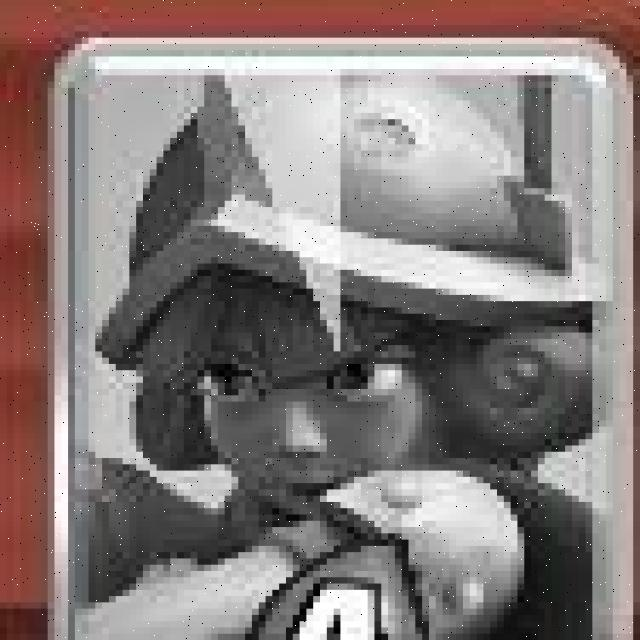Musketeer: (55, 42, 640, 640)
